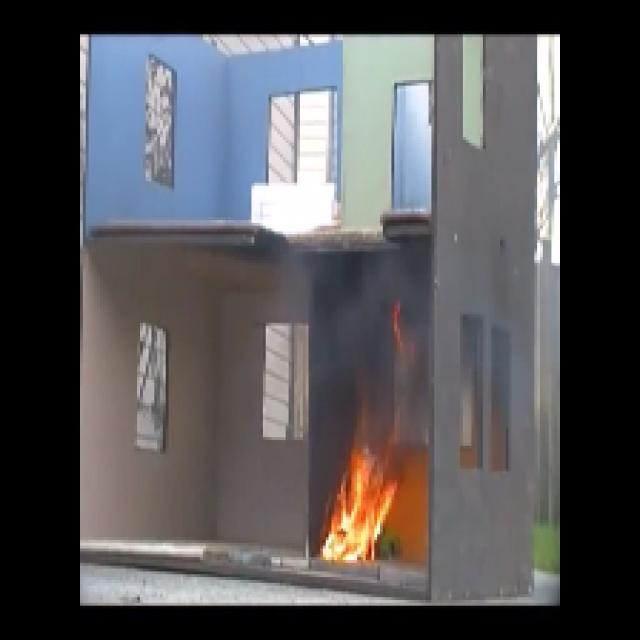fire: (324, 446, 399, 572)
smoke: (316, 246, 417, 326)
